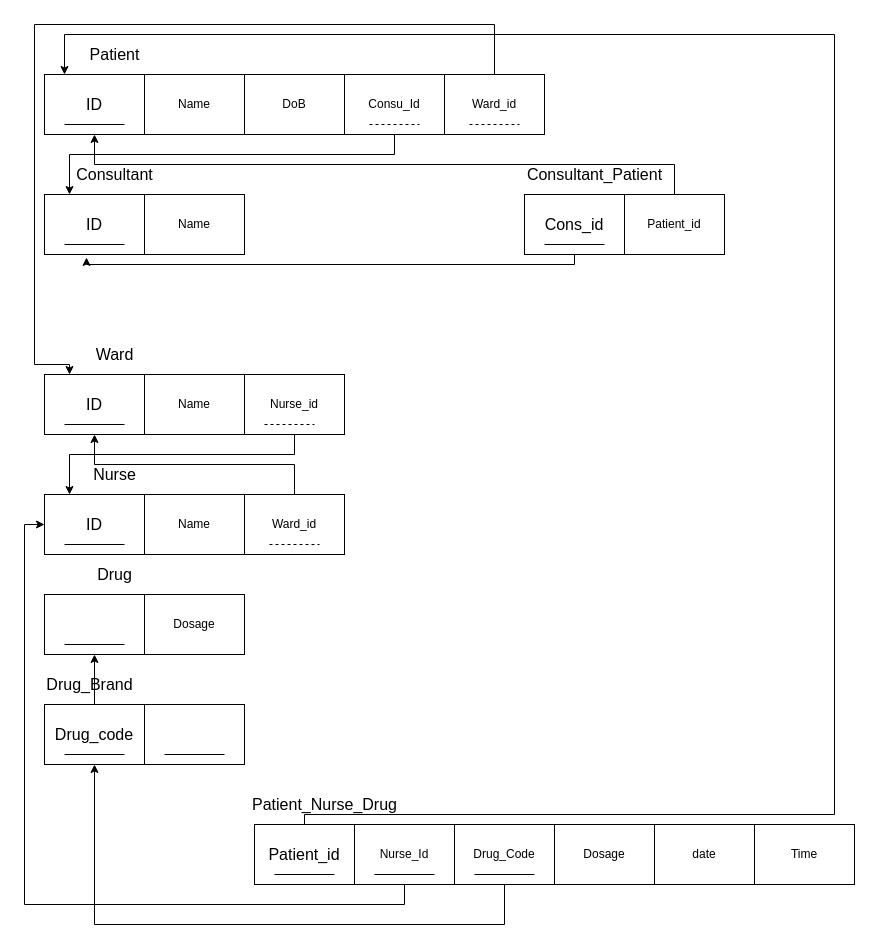
The diagram is 872 pixels wide and 950 high, and some of its shapes have lost their labels. Here are the shapes that lost their labels. From the top down, the centre of each, then its label:
At [94,624]: "Code".
At [194,734]: "Brand".
